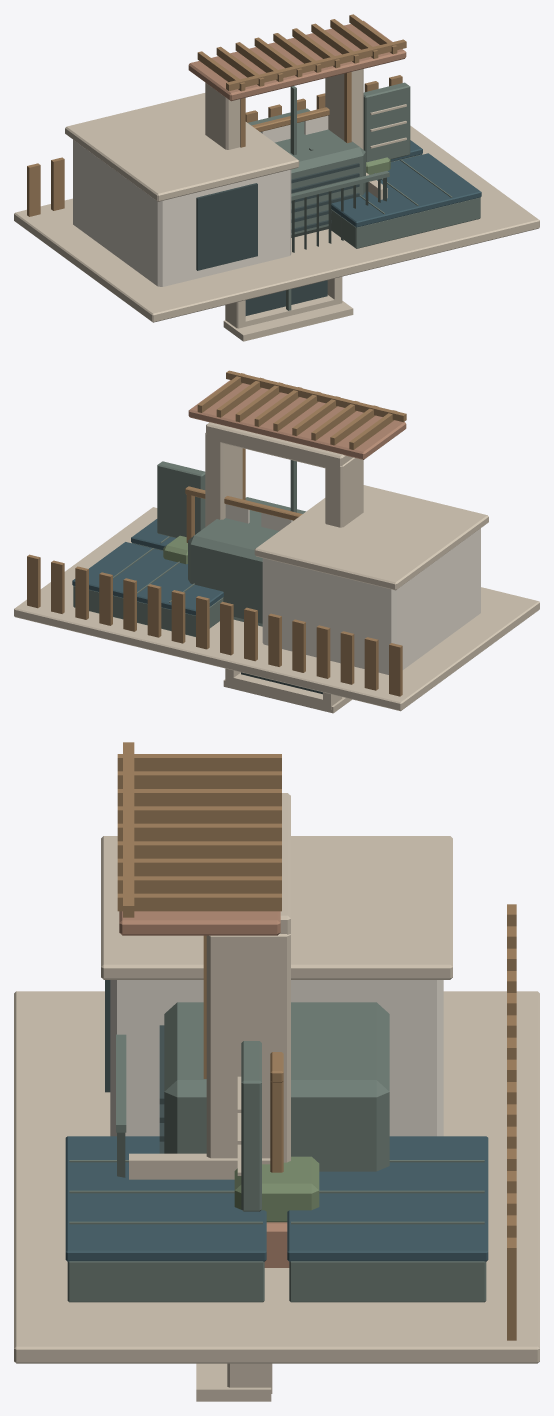
The model's file is housing.glb.
The picture shows the model from 3 angles, top to bottom: view 1: azimuth 30°, elevation 25°; view 2: azimuth 150°, elevation 25°; view 3: azimuth 270°, elevation 25°; orthographic projection. The views are drawn at different scales.
Visible parts, largest first — view 1: Housing_Service_A, Housing_Entry, Housing_Service_B, Housing_Window, Housing_Balcony, Housing_Service_C; view 2: Housing_Service_A, Housing_Entry, Housing_Service_B, Housing_Window, Housing_Service_C, Housing_Planter; view 3: Housing_Service_A, Housing_Entry, Housing_Service_B, Housing_Planter, Housing_Balcony, Housing_Window, Housing_Service_C.
Part boxes in pixels (x1=…): Housing_Service_A: x1=14, y1=75, x2=539, y2=322; Housing_Entry: x1=188, y1=14, x2=410, y2=162; Housing_Service_B: x1=248, y1=108, x2=365, y2=237; Housing_Window: x1=223, y1=276, x2=353, y2=341; Housing_Balcony: x1=291, y1=171, x2=389, y2=252; Housing_Service_C: x1=251, y1=107, x2=329, y2=142; Housing_Service_A: x1=14, y1=485, x2=539, y2=711; Housing_Entry: x1=157, y1=370, x2=406, y2=537; Housing_Service_B: x1=188, y1=497, x2=305, y2=626; Housing_Window: x1=223, y1=668, x2=351, y2=713; Housing_Service_C: x1=185, y1=486, x2=302, y2=542; Housing_Planter: x1=163, y1=535, x2=187, y2=564; Housing_Service_A: x1=14, y1=836, x2=539, y2=1363; Housing_Entry: x1=117, y1=742, x2=290, y2=1211; Housing_Service_B: x1=159, y1=1002, x2=389, y2=1171; Housing_Planter: x1=234, y1=1156, x2=319, y2=1267; Housing_Balcony: x1=116, y1=1034, x2=270, y2=1179; Housing_Window: x1=196, y1=1363, x2=272, y2=1401; Housing_Service_C: x1=270, y1=1052, x2=283, y2=1172.
Bounding box in the file's own units: 4.5 × 3.1 × 2.8.
